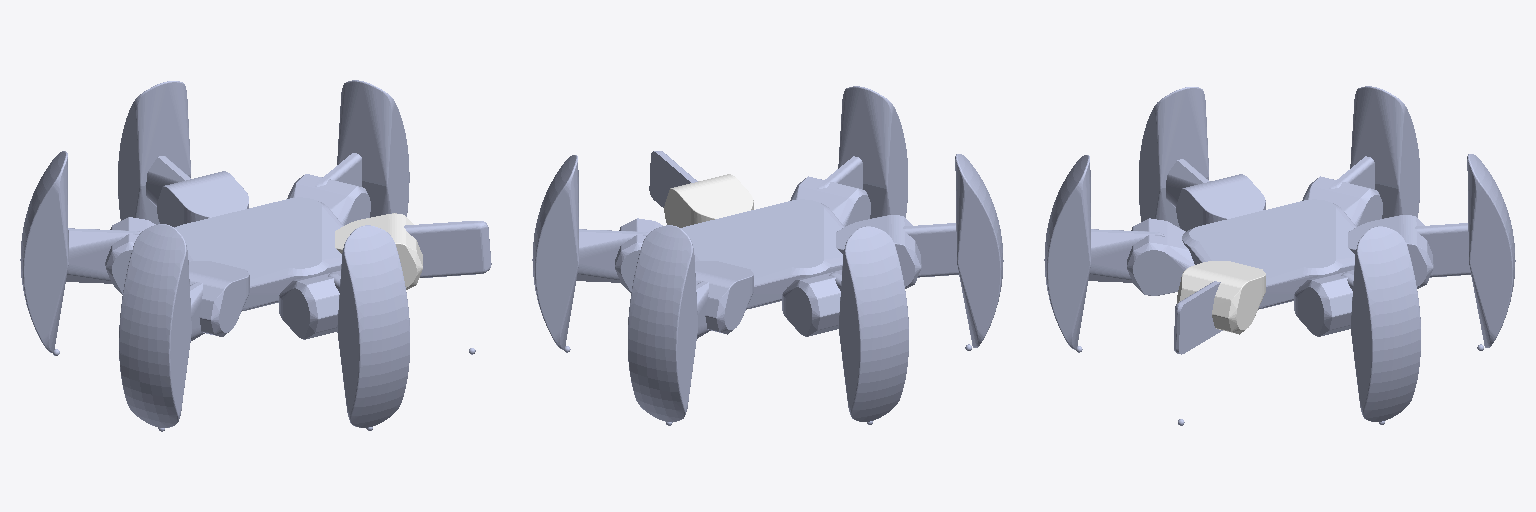
--- Render facts (derived) ---
3 views of the same robot in one strip: view 1: azimuth 30°, elevation 25°; view 2: azimuth 150°, elevation 25°; view 3: azimuth 270°, elevation 25° (orthographic).
Robot: Hex_centered — 25 links, 24 joints (18 revolute, 6 fixed); root link base_link; default pose: every joint at zero.
Links seen in each view (by area): view 1: leg3_sec2, leg4_sec2, base_link, leg0_sec2, leg2_sec2, leg1_sec2, leg5_sec1, leg1_sec0, leg3_sec0, leg4_sec0, leg2_sec1, leg0_sec0 (+5 smaller); view 2: leg1_sec2, leg2_sec2, base_link, leg4_sec2, leg0_sec2, leg3_sec2, leg5_sec0, leg1_sec0, leg2_sec0, leg0_sec1, leg3_sec1, leg4_sec0 (+5 smaller); view 3: leg0_sec2, base_link, leg2_sec2, leg4_sec2, leg1_sec2, leg3_sec2, leg5_sec0, leg4_sec0, leg3_sec0, leg0_sec0, leg4_sec1, leg5_sec1 (+5 smaller).
Link boxes in pixels (left/top/right/bottom): leg3_sec2: left=119, top=224, right=191, bottom=427; leg4_sec2: left=337, top=225, right=409, bottom=427; base_link: left=174, top=197, right=342, bottom=310; leg0_sec2: left=337, top=80, right=409, bottom=217; leg2_sec2: left=20, top=151, right=68, bottom=352; leg1_sec2: left=118, top=81, right=190, bottom=224; leg5_sec1: left=404, top=221, right=491, bottom=277; leg1_sec0: left=157, top=171, right=248, bottom=226; leg3_sec0: left=189, top=261, right=249, bottom=336; leg4_sec0: left=279, top=270, right=340, bottom=339; leg2_sec1: left=66, top=228, right=140, bottom=283; leg0_sec0: left=287, top=174, right=370, bottom=225; leg1_sec2: left=628, top=225, right=697, bottom=421; leg2_sec2: left=839, top=226, right=908, bottom=421; base_link: left=681, top=199, right=843, bottom=309; leg4_sec2: left=838, top=86, right=907, bottom=218; leg0_sec2: left=532, top=155, right=578, bottom=349; leg3_sec2: left=955, top=154, right=1003, bottom=347; leg5_sec0: left=664, top=174, right=753, bottom=227; leg1_sec0: left=695, top=261, right=753, bottom=334; leg2_sec0: left=782, top=269, right=841, bottom=336; leg0_sec1: left=576, top=229, right=648, bottom=282; leg3_sec1: left=903, top=223, right=958, bottom=277; leg4_sec0: left=790, top=176, right=870, bottom=226; leg0_sec2: left=1351, top=226, right=1420, bottom=421; base_link: left=1182, top=199, right=1355, bottom=309; leg2_sec2: left=1350, top=86, right=1419, bottom=218; leg4_sec2: left=1044, top=155, right=1090, bottom=349; leg1_sec2: left=1467, top=154, right=1515, bottom=347; leg3_sec2: left=1139, top=87, right=1208, bottom=228; leg5_sec0: left=1177, top=261, right=1265, bottom=334; leg4_sec0: left=1127, top=218, right=1194, bottom=295; leg3_sec0: left=1176, top=174, right=1265, bottom=231; leg0_sec0: left=1294, top=269, right=1353, bottom=336; leg4_sec1: left=1088, top=229, right=1165, bottom=282; leg5_sec1: left=1174, top=281, right=1222, bottom=354.
Bounding box of the posed robot: 0.6341 × 0.692 × 0.3162 m (x, y, z).
24 mesh visuals loaded from 25 distinct referenced files (24 OBJ); not drawn: 1 (reference not matched to a file when rendering).

URDF robot description (Hex_centered):
<?xml version='1.0' encoding='utf-8'?>
<robot name="Hex_centered">
  <link name="base_link">
    <inertial>
      <origin xyz="8.4655E-16 -2.7749E-05 -0.0017166" rpy="0 0 0" />
      <mass value="1.1131" />
      <inertia ixx="0.0015545" ixy="5.2756E-19" ixz="-5.9226E-22" iyy="0.0015449" iyz="2.5998E-19" izz="0.0029493" />
    </inertial>
    <visual>
      <origin xyz="0 0 0" rpy="0 0 0" />
      <geometry>
        <mesh filename="base_link_hull.obj" />
      </geometry>
      <material name="">
        <color rgba="0.79216 0.81961 0.93333 1" />
      </material>
    </visual>
    <collision>
      <origin xyz="0 0 0" rpy="0 0 0" />
      <geometry>
        <mesh filename="base_link_hull.obj" />
      </geometry>
    </collision>
  </link>
  <link name="leg0_sec0">
    <inertial>
      <origin xyz="-0.00707569385529468 0.00855062625804036 -0.054815748898491" rpy="0 0 0" />
      <mass value="0.516744336009406" />
      <inertia ixx="0.000332035445912826" ixy="-1.19422290500033E-08" ixz="-4.70411717105616E-06" iyy="0.000381762150648277" iyz="2.26631086123267E-05" izz="0.000277923623107278" />
    </inertial>
    <visual>
      <origin xyz="0 0 0" rpy="0 0 0" />
      <geometry>
        <mesh filename="leg0_sec0_hull.obj" />
      </geometry>
      <material name="">
        <color rgba="0.792156862745098 0.819607843137255 0.933333333333333 1" />
      </material>
    </visual>
    <collision>
      <origin xyz="0 0 0" rpy="0 0 0" />
      <geometry>
        <mesh filename="leg0_sec0_hull.obj" />
      </geometry>
    </collision>
  </link>
  <joint name="base_link_leg0_sec0" type="revolute">
    <origin xyz="0.0883345911860111 0.0510000000000006 -0.00299999999999999" rpy="-1.5707963267949 0 2.09951777344053" />
    <parent link="base_link" />
    <child link="leg0_sec0" />
    <axis xyz="0 1 0" />
    <limit lower="-1" upper="1" effort="10" velocity="10" />
  </joint>
  <link name="leg0_sec1">
    <inertial>
      <origin xyz="-3.47960722002806E-05 0.00296670012037184 -0.0658939676969916" rpy="0 0 0" />
      <mass value="0.0550811829575692" />
      <inertia ixx="2.28144165037125E-05" ixy="5.51953299782515E-10" ixz="4.60445429205642E-10" iyy="4.57864500280882E-05" iyz="-1.00902241603427E-08" izz="2.37510646239458E-05" />
    </inertial>
    <visual>
      <origin xyz="0 0 0" rpy="0 0 0" />
      <geometry>
        <mesh filename="leg0_sec1_hull.obj" />
      </geometry>
      <material name="">
        <color rgba="0.792156862745098 0.819607843137255 0.933333333333333 1" />
      </material>
    </visual>
    <collision>
      <origin xyz="0 0 0" rpy="0 0 0" />
      <geometry>
        <mesh filename="leg0_sec1_hull.obj" />
      </geometry>
    </collision>
  </link>
  <joint name="leg0_sec0_leg0_sec1" type="revolute">
    <origin xyz="0.014 -0.0025 -0.083" rpy="0 0.045641 1.5708" />
    <parent link="leg0_sec0" />
    <child link="leg0_sec1" />
    <axis xyz="-2.1688E-05 1 0.00047485" />
    <limit lower="-1" upper="1" effort="10" velocity="10" />
  </joint>
  <link name="leg0_sec2">
    <inertial>
      <origin xyz="0.00597993712436784 -0.019828072955937 0.00171878033778611" rpy="0 0 0" />
      <mass value="0.30128216441748" />
      <inertia ixx="0.0012875062335798" ixy="4.31058103013784E-07" ixz="0.000297696378153032" iyy="0.00126928197346853" iyz="3.09103455282562E-07" izz="0.000361201639787854" />
    </inertial>
    <visual>
      <origin xyz="0 0 0" rpy="0 0 0" />
      <geometry>
        <mesh filename="leg0_sec2_hull.obj" />
      </geometry>
      <material name="">
        <color rgba="0.792156862745098 0.819607843137255 0.933333333333333 1" />
      </material>
    </visual>
    <collision>
      <origin xyz="0 0 0" rpy="0 0 0" />
      <geometry>
        <mesh filename="leg0_sec2_hull.obj" />
      </geometry>
    </collision>
  </link>
  <joint name="leg0_sec1_leg0_sec2" type="revolute">
    <origin xyz="0 -0.0075 -0.118" rpy="0 -1.302 3.1416" />
    <parent link="leg0_sec1" />
    <child link="leg0_sec2" />
    <axis xyz="0.00046356 1 0.00010519" />
    <limit lower="-1" upper="1" effort="10" velocity="10" />
  </joint>
  <link name="leg0_end">
    <inertial>
      <origin xyz="-0.00438256224777916 -0.00839772550913839 0.000260732623376798" rpy="0 0 0" />
      <mass value="0.000523598775598299" />
      <inertia ixx="5.23598775598299E-09" ixy="-2.22951024477183E-25" ixz="-2.58493941422821E-26" iyy="5.23598775598298E-09" iyz="-5.16987882845642E-26" izz="5.23598775598299E-09" />
    </inertial>
    <visual>
      <origin xyz="0 0 0" rpy="0 0 0" />
      <geometry>
        <mesh filename="leg0_end_hull.obj" />
      </geometry>
      <material name="">
        <color rgba="0.792156862745098 0.819607843137255 0.933333333333333 1" />
      </material>
    </visual>
    <collision>
      <origin xyz="0 0 0" rpy="0 0 0" />
      <geometry>
        <mesh filename="leg0_end_hull.obj" />
      </geometry>
    </collision>
  </link>
  <joint name="leg0_sec2_leg0_end" type="fixed">
    <origin xyz="-0.030129 -0.021437 0.1463" rpy="-1.5398 0.11597 -2.657" />
    <parent link="leg0_sec2" />
    <child link="leg0_end" />
    <axis xyz="0 0 0" />
    <limit lower="-1" upper="1" effort="10" velocity="10" />
  </joint>
  <link name="leg1_sec0">
    <inertial>
      <origin xyz="-0.00710445304603185 0.00855022953898073 -0.0548148925372757" rpy="0 0 0" />
      <mass value="0.51674419533482" />
      <inertia ixx="0.000332030534681885" ixy="1.09687117943672E-08" ixz="-4.75157743858336E-06" iyy="0.000381752459194266" iyz="2.2678027424401E-05" izz="0.000277938234495214" />
    </inertial>
    <visual>
      <origin xyz="0 0 0" rpy="0 0 0" />
      <geometry>
        <mesh filename="leg1_sec0_hull.obj" />
      </geometry>
      <material name="">
        <color rgba="0.792156862745098 0.819607843137255 0.933333333333333 1" />
      </material>
    </visual>
    <collision>
      <origin xyz="0 0 0" rpy="0 0 0" />
      <geometry>
        <mesh filename="leg1_sec0_hull.obj" />
      </geometry>
    </collision>
  </link>
  <joint name="base_link_leg1_sec0" type="revolute">
    <origin xyz="0 0.102 0" rpy="1.5707963267949 0 0.00401317579419335" />
    <parent link="base_link" />
    <child link="leg1_sec0" />
    <axis xyz="0 1 0" />
    <limit lower="-1" upper="1" effort="10" velocity="10" />
  </joint>
  <link name="leg1_sec1">
    <inertial>
      <origin xyz="1.48463732280169E-09 0.00298679638148967 -0.0658997495889599" rpy="0 0 0" />
      <mass value="0.0550811690754703" />
      <inertia ixx="2.28145160395789E-05" ixy="9.43216308911731E-13" ixz="-1.27595524711446E-10" iyy="4.57865354622549E-05" iyz="1.45702317896288E-09" izz="2.37510484303137E-05" />
    </inertial>
    <visual>
      <origin xyz="0 0 0" rpy="0 0 0" />
      <geometry>
        <mesh filename="leg1_sec1_hull.obj" />
      </geometry>
      <material name="">
        <color rgba="0.792156862745098 0.819607843137255 0.933333333333333 1" />
      </material>
    </visual>
    <collision>
      <origin xyz="0 0 0" rpy="0 0 0" />
      <geometry>
        <mesh filename="leg1_sec1_hull.obj" />
      </geometry>
    </collision>
  </link>
  <joint name="leg1_sec0_leg1_sec1" type="revolute">
    <origin xyz="-0.0139999999999956 -0.00249999999999998 -0.0830000000000002" rpy="0 0.0750140295306033 -1.5707963267949" />
    <parent link="leg1_sec0" />
    <child link="leg1_sec1" />
    <axis xyz="0 1 0" />
    <limit lower="-1" upper="1" effort="10" velocity="10" />
  </joint>
  <link name="leg1_sec2">
    <inertial>
      <origin xyz="0.00447856820292183 0.0359301913587442 0.00431952813861851" rpy="0 0 0" />
      <mass value="0.301282245465355" />
      <inertia ixx="0.000839650699187153" ixy="-5.43340470613798E-07" ixz="0.000550363105349293" iyy="0.00126928650978786" iyz="-2.38816065708558E-07" izz="0.000809060253833485" />
    </inertial>
    <visual>
      <origin xyz="0 0 0" rpy="0 0 0" />
      <geometry>
        <mesh filename="leg1_sec2_hull.obj" />
      </geometry>
      <material name="">
        <color rgba="0.792156862745098 0.819607843137255 0.933333333333333 1" />
      </material>
    </visual>
    <collision>
      <origin xyz="0 0 0" rpy="0 0 0" />
      <geometry>
        <mesh filename="leg1_sec2_hull.obj" />
      </geometry>
    </collision>
  </link>
  <joint name="leg1_sec1_leg1_sec2" type="revolute">
    <origin xyz="0 -0.0240000000000046 -0.118" rpy="0 -0.791521153426387 0" />
    <parent link="leg1_sec1" />
    <child link="leg1_sec2" />
    <axis xyz="0 -1 0" />
    <limit lower="-1" upper="1" effort="10" velocity="10" />
  </joint>
  <link name="leg1_end">
    <inertial>
      <origin xyz="0 0 0" rpy="0 0 0" />
      <mass value="0.000523598775598299" />
      <inertia ixx="5.23598775598299E-09" ixy="1.03397576569128E-25" ixz="0" iyy="5.23598775598299E-09" iyz="-1.29246970711411E-25" izz="5.23598775598299E-09" />
    </inertial>
    <visual>
      <origin xyz="0 0 0" rpy="0 0 0" />
      <geometry>
        <mesh filename="leg1_end_hull.obj" />
      </geometry>
      <material name="">
        <color rgba="0.792156862745098 0.819607843137255 0.933333333333333 1" />
      </material>
    </visual>
    <collision>
      <origin xyz="0 0 0" rpy="0 0 0" />
      <geometry>
        <mesh filename="leg1_end_hull.obj" />
      </geometry>
    </collision>
  </link>
  <joint name="leg1_sec2_leg1_end" type="fixed">
    <origin xyz="0.124761507761288 0.036148286668602 -0.0984937610507115" rpy="0.969665570451577 0.803297229042856 2.41148618199875" />
    <parent link="leg1_sec2" />
    <child link="leg1_end" />
    <axis xyz="0 0 0" />
  </joint>
  <link name="leg2_sec0">
    <inertial>
      <origin xyz="-0.00710445055153557 -0.0206811805150298 -0.054812028813218" rpy="0 0 0" />
      <mass value="0.516744340904771" />
      <inertia ixx="0.000332030498302113" ixy="-5.73639305002406E-11" ixz="-4.73249435846793E-06" iyy="0.000381762164339501" iyz="2.26631091945157E-05" izz="0.000277928582872897" />
    </inertial>
    <visual>
      <origin xyz="0 0 0" rpy="0 0 0" />
      <geometry>
        <mesh filename="leg2_sec0_hull.obj" />
      </geometry>
      <material name="">
        <color rgba="0.792156862745098 0.819607843137255 0.933333333333333 1" />
      </material>
    </visual>
    <collision>
      <origin xyz="0 0 0" rpy="0 0 0" />
      <geometry>
        <mesh filename="leg2_sec0_hull.obj" />
      </geometry>
    </collision>
  </link>
  <joint name="base_link_leg2_sec0" type="revolute">
    <origin xyz="-0.0883345911860131 0.0510000000000005 -0.0322318069086422" rpy="-1.5707963267949 0 -2.0887478298947" />
    <parent link="base_link" />
    <child link="leg2_sec0" />
    <axis xyz="0 1 0" />
    <limit lower="-1" upper="1" effort="10" velocity="10" />
  </joint>
  <link name="leg2_sec1">
    <inertial>
      <origin xyz="5.25503776604985E-09 -0.0109552250162961 -0.0658997561016724" rpy="0 0 0" />
      <mass value="0.0550811835691165" />
      <inertia ixx="2.28144162219905E-05" ixy="6.87387369928867E-13" ixz="-2.99949390540895E-11" iyy="4.57864548150819E-05" iyz="1.45667549934326E-09" izz="2.37510606270452E-05" />
    </inertial>
    <visual>
      <origin xyz="0 0 0" rpy="0 0 0" />
      <geometry>
        <mesh filename="leg2_sec1_hull.obj" />
      </geometry>
      <material name="">
        <color rgba="0.792156862745098 0.819607843137255 0.933333333333333 1" />
      </material>
    </visual>
    <collision>
      <origin xyz="0 0 0" rpy="0 0 0" />
      <geometry>
        <mesh filename="leg2_sec1_hull.obj" />
      </geometry>
    </collision>
  </link>
  <joint name="leg2_sec0_leg2_sec1" type="revolute">
    <origin xyz="0 -0.0317318069086421 -0.0829999999999991" rpy="0 0.0461645170086927 1.5707963267949" />
    <parent link="leg2_sec0" />
    <child link="leg2_sec1" />
    <axis xyz="0 0.999999998787039 4.920117719176E-05" />
    <limit lower="-1" upper="1" effort="10" velocity="10" />
  </joint>
  <link name="leg2_sec2">
    <inertial>
      <origin xyz="0.00506647207805064 -0.00361212267776093 0.00156975734931639" rpy="0 0 0" />
      <mass value="0.301282383105138" />
      <inertia ixx="0.00100817381744662" ixy="-0.000518985545059815" ixz="3.35388953606806E-07" iyy="0.000640542280867976" iyz="-4.89721520029434E-07" izz="0.00126929100056078" />
    </inertial>
    <visual>
      <origin xyz="0 0 0" rpy="0 0 0" />
      <geometry>
        <mesh filename="leg2_sec2_hull.obj" />
      </geometry>
      <material name="">
        <color rgba="0.792156862745098 0.819607843137255 0.933333333333333 1" />
      </material>
    </visual>
    <collision>
      <origin xyz="0 0 0" rpy="0 0 0" />
      <geometry>
        <mesh filename="leg2_sec2_hull.obj" />
      </geometry>
    </collision>
  </link>
  <joint name="leg2_sec1_leg2_sec2" type="revolute">
    <origin xyz="0 0 -0.118" rpy="-1.57079632679491 -0.971924974977197 -3.14159265358978" />
    <parent link="leg2_sec1" />
    <child link="leg2_sec2" />
    <axis xyz="-4.19200750312876E-05 2.58576780800823E-05 0.999999998787044" />
    <limit lower="-1" upper="1" effort="10" velocity="10" />
  </joint>
  <link name="leg2_end">
    <inertial>
      <origin xyz="0 0 0" rpy="0 0 0" />
      <mass value="0.000523598775598299" />
      <inertia ixx="5.23598775598299E-09" ixy="-9.04728794979874E-26" ixz="-2.06795153138257E-25" iyy="5.23598775598298E-09" iyz="1.03397576569128E-25" izz="5.23598775598299E-09" />
    </inertial>
    <visual>
      <origin xyz="0 0 0" rpy="0 0 0" />
      <geometry>
        <mesh filename="leg2_end_hull.obj" />
      </geometry>
      <material name="">
        <color rgba="0.792156862745098 0.819607843137255 0.933333333333333 1" />
      </material>
    </visual>
    <collision>
      <origin xyz="0 0 0" rpy="0 0 0" />
      <geometry>
        <mesh filename="leg2_end_hull.obj" />
      </geometry>
    </collision>
  </link>
  <joint name="leg2_sec2_leg2_end" type="fixed">
    <origin xyz="-0.0759237273830959 -0.138069815645729 0.00153632213479866" rpy="3.11289588948014 0.483102881287211 2.68217676816751" />
    <parent link="leg2_sec2" />
    <child link="leg2_end" />
    <axis xyz="0 0 0" />
  </joint>
  <link name="leg3_sec0">
    <inertial>
      <origin xyz="-0.00710445049796826 0.0085502314605868 -0.0548148830973804" rpy="0 0 0" />
      <mass value="0.51674434334138" />
      <inertia ixx="0.000332030497320948" ixy="1.09508607538054E-08" ixz="-4.75156132613358E-06" iyy="0.000381752452117392" iyz="2.2678016415106E-05" izz="0.000277938295233445" />
    </inertial>
    <visual>
      <origin xyz="0 0 0" rpy="0 0 0" />
      <geometry>
        <mesh filename="leg3_sec0_hull.obj" />
      </geometry>
      <material name="">
        <color rgba="0.792156862745098 0.819607843137255 0.933333333333333 1" />
      </material>
    </visual>
    <collision>
      <origin xyz="0 0 0" rpy="0 0 0" />
      <geometry>
        <mesh filename="leg3_sec0_hull.obj" />
      </geometry>
    </collision>
  </link>
  <joint name="base_link_leg3_sec0" type="revolute">
    <origin xyz="-0.0883345911860119 -0.0510000000000026 0" rpy="1.5707963267949 0 2.09840827818739" />
    <parent link="base_link" />
    <child link="leg3_sec0" />
    <axis xyz="0 1 0" />
    <limit lower="-1" upper="1" effort="10" velocity="10" />
  </joint>
  <link name="leg3_sec1">
    <inertial>
      <origin xyz="-1.86242390606828E-09 0.00298683029554875 -0.0658997383493555" rpy="0 0 0" />
      <mass value="0.05508118510774" />
      <inertia ixx="2.28144167847957E-05" ixy="1.15459821771112E-12" ixz="-2.95649396417999E-11" iyy="4.57864559080722E-05" iyz="1.45756403955783E-09" izz="2.37510611896855E-05" />
    </inertial>
    <visual>
      <origin xyz="0 0 0" rpy="0 0 0" />
      <geometry>
        <mesh filename="leg3_sec1_hull.obj" />
      </geometry>
      <material name="">
        <color rgba="0.792156862745098 0.819607843137255 0.933333333333333 1" />
      </material>
    </visual>
    <collision>
      <origin xyz="0 0 0" rpy="0 0 0" />
      <geometry>
        <mesh filename="leg3_sec1_hull.obj" />
      </geometry>
    </collision>
  </link>
  <joint name="leg3_sec0_leg3_sec1" type="revolute">
    <origin xyz="-0.014 -0.00249999999999027 -0.082999999999997" rpy="0 0.0750140293482233 -1.5707963267949" />
    <parent link="leg3_sec0" />
    <child link="leg3_sec1" />
    <axis xyz="0 1 0" />
    <limit lower="-1" upper="1" effort="10" velocity="10" />
  </joint>
  <link name="leg3_sec2">
    <inertial>
      <origin xyz="0.00447860530466054 0.0359301784982642 0.00431942794813184" rpy="0 0 0" />
      <mass value="0.301282032345394" />
      <inertia ixx="0.00083964691740419" ixy="-5.43655253747486E-07" ixz="0.000550362229373171" iyy="0.00126928091669943" iyz="-2.3820985063926E-07" izz="0.000809058576296916" />
    </inertial>
    <visual>
      <origin xyz="0 0 0" rpy="0 0 0" />
      <geometry>
        <mesh filename="leg3_sec2_hull.obj" />
      </geometry>
      <material name="">
        <color rgba="0.792156862745098 0.819607843137255 0.933333333333333 1" />
      </material>
    </visual>
    <collision>
      <origin xyz="0 0 0" rpy="0 0 0" />
      <geometry>
        <mesh filename="leg3_sec2_hull.obj" />
      </geometry>
    </collision>
  </link>
  <joint name="leg3_sec1_leg3_sec2" type="revolute">
    <origin xyz="0 -0.0240000000000002 -0.118000000000003" rpy="0 -0.79152115324401 0" />
    <parent link="leg3_sec1" />
    <child link="leg3_sec2" />
    <axis xyz="0 -1 0" />
    <limit lower="-1" upper="1" effort="10" velocity="10" />
  </joint>
  <link name="leg3_end">
    <inertial>
      <origin xyz="0 0 0" rpy="0 0 0" />
      <mass value="0.000523598775598299" />
      <inertia ixx="5.23598775598299E-09" ixy="-2.26182198744969E-26" ixz="-3.87740912134232E-26" iyy="5.23598775598299E-09" iyz="-5.16987882845642E-26" izz="5.23598775598299E-09" />
    </inertial>
    <visual>
      <origin xyz="0 0 0" rpy="0 0 0" />
      <geometry>
        <mesh filename="leg3_end_hull.obj" />
      </geometry>
      <material name="">
        <color rgba="0.792156862745098 0.819607843137255 0.933333333333333 1" />
      </material>
    </visual>
    <collision>
      <origin xyz="0 0 0" rpy="0 0 0" />
      <geometry>
        <mesh filename="leg3_end_hull.obj" />
      </geometry>
    </collision>
  </link>
  <joint name="leg3_sec2_leg3_end" type="fixed">
    <origin xyz="0.124761507746165 0.0361482866686022 -0.0984937610354024" rpy="0.969665570451575 0.803297229042854 2.41148618199875" />
    <parent link="leg3_sec2" />
    <child link="leg3_end" />
    <axis xyz="0 0 0" />
  </joint>
  <link name="leg4_sec0">
    <inertial>
      <origin xyz="-0.00710445303505077 0.00855062450257226 -0.0548120381256653" rpy="0 0 0" />
      <mass value="0.51674419539948" />
      <inertia ixx="0.000332030534503116" ixy="-3.96325880872006E-11" ixz="-4.7325102588364E-06" iyy="0.000381762170173281" iyz="2.26631200821973E-05" izz="0.000277928522694961" />
    </inertial>
    <visual>
      <origin xyz="0 0 0" rpy="0 0 0" />
      <geometry>
        <mesh filename="leg4_sec0_hull.obj" />
      </geometry>
      <material name="">
        <color rgba="0.792156862745098 0.819607843137255 0.933333333333333 1" />
      </material>
    </visual>
    <collision>
      <origin xyz="0 0 0" rpy="0 0 0" />
      <geometry>
        <mesh filename="leg4_sec0_hull.obj" />
      </geometry>
    </collision>
  </link>
  <joint name="base_link_leg4_sec0" type="revolute">
    <origin xyz="0 -0.102 -0.003" rpy="-1.5708 0 0.0056473" />
    <parent link="base_link" />
    <child link="leg4_sec0" />
    <axis xyz="0 1 0" />
    <limit lower="-1" upper="1" effort="10" velocity="10" />
  </joint>
  <link name="leg4_sec1">
    <inertial>
      <origin xyz="1.55185030797922E-09 0.00304474105440002 -0.0658997504155771" rpy="0 0 0" />
      <mass value="0.0550811667402721" />
      <inertia ixx="2.28145150533023E-05" ixy="9.40225941500973E-13" ixz="-1.27680898175252E-10" iyy="4.5786533657584E-05" iyz="1.45699133116291E-09" izz="2.37510475440189E-05" />
    </inertial>
    <visual>
      <origin xyz="0 0 0" rpy="0 0 0" />
      <geometry>
        <mesh filename="leg4_sec1_hull.obj" />
      </geometry>
      <material name="">
        <color rgba="0.792156862745098 0.819607843137255 0.933333333333333 1" />
      </material>
    </visual>
    <collision>
      <origin xyz="0 0 0" rpy="0 0 0" />
      <geometry>
        <mesh filename="leg4_sec1_hull.obj" />
      </geometry>
    </collision>
  </link>
  <joint name="leg4_sec0_leg4_sec1" type="revolute">
    <origin xyz="0.0139999999997467 -0.00249999999902129 -0.0830000000016922" rpy="0 0.0461645169152207 1.5707963267949" />
    <parent link="leg4_sec0" />
    <child link="leg4_sec1" />
    <axis xyz="0 0.999999998787038 4.92011950652474E-05" />
    <limit lower="-1" upper="1" effort="10" velocity="10" />
  </joint>
  <link name="leg4_sec2">
    <inertial>
      <origin xyz="0.00596287497487452 -0.0199302535089278 0.001777992879926" rpy="0 0 0" />
      <mass value="0.301282726812204" />
      <inertia ixx="0.00128751403890389" ixy="4.76738917873338E-07" ixz="0.000297700131008368" iyy="0.00126929778505946" iyz="3.53794352511474E-07" izz="0.00036120939589547" />
    </inertial>
    <visual>
      <origin xyz="0 0 0" rpy="0 0 0" />
      <geometry>
        <mesh filename="leg4_sec2_hull.obj" />
      </geometry>
      <material name="">
        <color rgba="0.792156862745098 0.819607843137255 0.933333333333333 1" />
      </material>
    </visual>
    <collision>
      <origin xyz="0 0 0" rpy="0 0 0" />
      <geometry>
        <mesh filename="leg4_sec2_hull.obj" />
      </geometry>
    </collision>
  </link>
  <joint name="leg4_sec1_leg4_sec2" type="revolute">
    <origin xyz="0 -0.00749999999938609 -0.118000000015958" rpy="0 -1.30148876312317 -3.14159265358977" />
    <parent link="leg4_sec1" />
    <child link="leg4_sec2" />
    <axis xyz="-4.80324338419475E-05 0.999999998787043 -1.08995076120095E-05" />
    <limit lower="-1" upper="1" effort="10" velocity="10" />
  </joint>
  <link name="leg4_end">
    <inertial>
      <origin xyz="5.55111512312578E-17 0 -2.77555756156289E-17" rpy="0 0 0" />
      <mass value="0.000523598775598299" />
      <inertia ixx="5.23598775598298E-09" ixy="-5.16987882845642E-26" ixz="4.13590306276514E-25" iyy="5.23598775598298E-09" iyz="5.16987882845642E-26" izz="5.23598775598298E-09" />
    </inertial>
    <visual>
      <origin xyz="0 0 0" rpy="0 0 0" />
      <geometry>
        <mesh filename="leg4_end_hull.obj" />
      </geometry>
      <material name="">
        <color rgba="0.792156862745098 0.819607843137255 0.933333333333333 1" />
      </material>
    </visual>
    <collision>
      <origin xyz="0 0 0" rpy="0 0 0" />
      <geometry>
        <mesh filename="leg4_end_hull.obj" />
      </geometry>
    </collision>
  </link>
  <joint name="leg4_sec1_leg4_end" type="fixed">
    <origin xyz="-0.0271542070757799 -0.019963677867964 0.155210616284265" rpy="-1.53890591238882 0.114921448047227 -2.65500348954818" />
    <parent link="leg4_sec2" />
    <child link="leg4_end" />
    <axis xyz="0 0 0" />
  </joint>
  <link name="leg5_sec0">
    <inertial>
      <origin xyz="0 0 0" rpy="0 0 0" />
      <mass value="0" />
      <inertia ixx="0" ixy="0" ixz="0" iyy="0" iyz="0" izz="0" />
    </inertial>
    <visual>
      <origin xyz="0 0 0" rpy="0 0 0" />
      <geometry>
        <mesh filename="leg5_sec0_hull.obj" />
      </geometry>
      <material name="">
        <color rgba="1 1 1 1" />
      </material>
    </visual>
    <collision>
      <origin xyz="0 0 0" rpy="0 0 0" />
      <geometry>
        <mesh filename="leg5_sec0_hull.obj" />
      </geometry>
    </collision>
  </link>
  <joint name="base_link_leg5_sec0" type="revolute">
    <origin xyz="0.0883345911860154 -0.0509999999999997 0" rpy="1.5707963267949 0 -2.09038192659899" />
    <parent link="base_link" />
    <child link="leg5_sec0" />
    <axis xyz="0 1 0" />
    <limit lower="-1" upper="1" effort="10" velocity="10" />
  </joint>
  <link name="leg5_sec1">
    <inertial>
      <origin xyz="5.71011421132694E-09 0.00533038998828729 -0.05907045947276" rpy="0 0 0" />
      <mass value="0.0486978737702698" />
      <inertia ixx="2.23874617536782E-05" ixy="6.82131812553126E-13" ixz="-2.93052584054011E-11" iyy="4.50321877207089E-05" iyz="1.45670538125702E-09" izz="2.33241066637153E-05" />
    </inertial>
    <visual>
      <origin xyz="0 0 0" rpy="0 0 0" />
      <geometry>
        <mesh filename="leg5_sec1_hull.obj" />
      </geometry>
      <material name="">
        <color rgba="0.792156862745098 0.819607843137255 0.933333333333333 1" />
      </material>
    </visual>
    <collision>
      <origin xyz="0 0 0" rpy="0 0 0" />
      <geometry>
        <mesh filename="leg5_sec1_hull.obj" />
      </geometry>
    </collision>
  </link>
  <joint name="leg5_sec0_leg5_sec1" type="revolute">
    <origin xyz="-0.0139999999999999 -0.00249999999999021 -0.0829999999999969" rpy="0 0.0750140293482231 -1.5707963267949" />
    <parent link="leg5_sec0" />
    <child link="leg5_sec1" />
    <axis xyz="0 1 0" />
    <limit lower="-1" upper="1" effort="10" velocity="10" />
  </joint>
  <link name="leg5_sec2">
    <inertial>
      <origin xyz="0.00447855748927306 0.0359302309473375 0.00431961611906123" rpy="0 0 0" />
      <mass value="0.301282258314777" />
      <inertia ixx="0.000839653296899393" ixy="-5.43039219271966E-07" ixz="0.000550363438528571" iyy="0.00126928985211286" iyz="-2.39708770127247E-07" izz="0.000809061532346639" />
    </inertial>
    <visual>
      <origin xyz="0 0 0" rpy="0 0 0" />
      <geometry>
        <mesh filename="leg5_sec2_hull.obj" />
      </geometry>
      <material name="">
        <color rgba="0.792156862745098 0.819607843137255 0.933333333333333 1" />
      </material>
    </visual>
    <collision>
      <origin xyz="0 0 0" rpy="0 0 0" />
      <geometry>
        <mesh filename="leg5_sec2_hull.obj" />
      </geometry>
    </collision>
  </link>
  <joint name="leg5_sec1_leg5_sec2" type="revolute">
    <origin xyz="0 -0.0240000000000002 -0.118000000000002" rpy="0 -0.791521153244008 0" />
    <parent link="leg5_sec1" />
    <child link="leg5_sec2" />
    <axis xyz="0 -1 0" />
    <limit lower="-1" upper="1" effort="10" velocity="10" />
  </joint>
  <link name="leg5_end">
    <inertial>
      <origin xyz="0 0 2.77555756156289E-17" rpy="0 0 0" />
      <mass value="0.000523598775598299" />
      <inertia ixx="5.23598775598299E-09" ixy="-3.87740912134232E-26" ixz="-4.13590306276514E-25" iyy="5.23598775598299E-09" iyz="1.93870456067116E-26" izz="5.23598775598299E-09" />
    </inertial>
    <visual>
      <origin xyz="0 0 0" rpy="0 0 0" />
      <geometry>
        <mesh filename="leg5_end_hull.obj" />
      </geometry>
      <material name="">
        <color rgba="0.792156862745098 0.819607843137255 0.933333333333333 1" />
      </material>
    </visual>
    <collision>
      <origin xyz="0 0 0" rpy="0 0 0" />
      <geometry>
        <mesh filename="leg5_end_hull.obj" />
      </geometry>
    </collision>
  </link>
  <joint name="leg5_sec2_leg4_end" type="fixed">
    <origin xyz="0.124761507746165 0.036148286668602 -0.0984937610354022" rpy="0.969665570451577 0.803297229042861 2.41148618199875" />
    <parent link="leg5_sec2" />
    <child link="leg5_end" />
    <axis xyz="0 0 0" />
  </joint>
    <transmission name="simple_trans00">
    <type>transmission_interface/SimpleTransmission</type>
    <joint name="base_link_leg0_sec0">
        <hardwareInterface>EffortJointInterface</hardwareInterface>
    </joint>
    <actuator name="foo_motor00">
        <mechanicalReduction>1</mechanicalReduction>
        <hardwareInterface>EffortJointInterface</hardwareInterface>
    </actuator>
    </transmission>

    <transmission name="simple_trans01">
    <type>transmission_interface/SimpleTransmission</type>
    <joint name="leg0_sec0_leg0_sec1">
        <hardwareInterface>EffortJointInterface</hardwareInterface>
    </joint>
    <actuator name="foo_motor01">
        <mechanicalReduction>1</mechanicalReduction>
        <hardwareInterface>EffortJointInterface</hardwareInterface>
    </actuator>
    </transmission>

    <transmission name="simple_trans02">
    <type>transmission_interface/SimpleTransmission</type>
    <joint name="leg0_sec1_leg0_sec2">
        <hardwareInterface>EffortJointInterface</hardwareInterface>
    </joint>
    <actuator name="foo_motor02">
        <mechanicalReduction>1</mechanicalReduction>
        <hardwareInterface>EffortJointInterface</hardwareInterface>
    </actuator>
    </transmission>

    <transmission name="simple_trans10">
    <type>transmission_interface/SimpleTransmission</type>
    <joint name="base_link_leg1_sec0">
        <hardwareInterface>EffortJointInterface</hardwareInterface>
    </joint>
    <actuator name="foo_motor10">
        <mechanicalReduction>1</mechanicalReduction>
        <hardwareInterface>EffortJointInterface</hardwareInterface>
    </actuator>
    </transmission>

    <transmission name="simple_trans11">
    <type>transmission_interface/SimpleTransmission</type>
    <joint name="leg1_sec0_leg1_sec1">
        <hardwareInterface>EffortJointInterface</hardwareInterface>
    </joint>
    <actuator name="foo_motor11">
        <mechanicalReduction>1</mechanicalReduction>
        <hardwareInterface>EffortJointInterface</hardwareInterface>
    </actuator>
    </transmission>

    <transmission name="simple_trans12">
    <type>transmission_interface/SimpleTransmission</type>
    <joint name="leg1_sec1_leg1_sec2">
        <hardwareInterface>EffortJointInterface</hardwareInterface>
    </joint>
    <actuator name="foo_motor12">
        <mechanicalReduction>1</mechanicalReduction>
        <hardwareInterface>EffortJointInterface</hardwareInterface>
    </actuator>
    </transmission>

    <transmission name="simple_trans20">
    <type>transmission_interface/SimpleTransmission</type>
    <joint name="base_link_leg2_sec0">
        <hardwareInterface>EffortJointInterface</hardwareInterface>
    </joint>
    <actuator name="foo_motor20">
        <mechanicalReduction>1</mechanicalReduction>
        <hardwareInterface>EffortJointInterface</hardwareInterface>
    </actuator>
    </transmission>

    <transmission name="simple_trans21">
    <type>transmission_interface/SimpleTransmission</type>
    <joint name="leg2_sec0_leg2_sec1">
        <hardwareInterface>EffortJointInterface</hardwareInterface>
    </joint>
    <actuator name="foo_motor21">
        <mechanicalReduction>1</mechanicalReduction>
        <hardwareInterface>EffortJointInterface</hardwareInterface>
    </actuator>
    </transmission>

    <transmission name="simple_trans22">
    <type>transmission_interface/SimpleTransmission</type>
    <joint name="leg2_sec1_leg2_sec2">
        <hardwareInterface>EffortJointInterface</hardwareInterface>
    </joint>
    <actuator name="foo_motor22">
        <mechanicalReduction>1</mechanicalReduction>
        <hardwareInterface>EffortJointInterface</hardwareInterface>
    </actuator>
    </transmission>

    <transmission name="simple_trans30">
    <type>transmission_interface/SimpleTransmission</type>
    <joint name="base_link_leg3_sec0">
        <hardwareInterface>EffortJointInterface</hardwareInterface>
    </joint>
    <actuator name="foo_motor30">
        <mechanicalReduction>1</mechanicalReduction>
        <hardwareInterface>EffortJointInterface</hardwareInterface>
    </actuator>
    </transmission>

    <transmission name="simple_trans31">
    <type>transmission_interface/SimpleTransmission</type>
    <joint name="leg3_sec0_leg3_sec1">
        <hardwareInterface>EffortJointInterface</hardwareInterface>
    </joint>
    <actuator name="foo_motor31">
        <mechanicalReduction>1</mechanicalReduction>
        <hardwareInterface>EffortJointInterface</hardwareInterface>
    </actuator>
    </transmission>

    <transmission name="simple_trans32">
    <type>transmission_interface/SimpleTransmission</type>
    <joint name="leg3_sec1_leg3_sec2">
        <hardwareInterface>EffortJointInterface</hardwareInterface>
    </joint>
    <actuator name="foo_motor32">
        <mechanicalReduction>1</mechanicalReduction>
        <hardwareInterface>EffortJointInterface</hardwareInterface>
    </actuator>
    </transmission>

    <transmission name="simple_trans40">
    <type>transmission_interface/SimpleTransmission</type>
    <joint name="base_link_leg4_sec0">
        <hardwareInterface>EffortJointInterface</hardwareInterface>
    </joint>
    <actuator name="foo_motor40">
        <mechanicalReduction>1</mechanicalReduction>
        <hardwareInterface>EffortJointInterface</hardwareInterface>
    </actuator>
    </transmission>

    <transmission name="simple_trans41">
    <type>transmission_interface/SimpleTransmission</type>
    <joint name="leg4_sec0_leg4_sec1">
        <hardwareInterface>EffortJointInterface</hardwareInterface>
    </joint>
    <actuator name="foo_motor41">
        <mechanicalReduction>1</mechanicalReduction>
        <hardwareInterface>EffortJointInterface</hardwareInterface>
    </actuator>
    </transmission>

    <transmission name="simple_trans42">
    <type>transmission_interface/SimpleTransmission</type>
    <joint name="leg4_sec1_leg4_sec2">
        <hardwareInterface>EffortJointInterface</hardwareInterface>
    </joint>
    <actuator name="foo_motor42">
        <mechanicalReduction>1</mechanicalReduction>
        <hardwareInterface>EffortJointInterface</hardwareInterface>
    </actuator>
    </transmission>

    <transmission name="simple_trans50">
    <type>transmission_interface/SimpleTransmission</type>
    <joint name="base_link_leg5_sec0">
        <hardwareInterface>EffortJointInterface</hardwareInterface>
    </joint>
    <actuator name="foo_motor50">
        <mechanicalReduction>1</mechanicalReduction>
        <hardwareInterface>EffortJointInterface</hardwareInterface>
    </actuator>
    </transmission>

    <transmission name="simple_trans51">
    <type>transmission_interface/SimpleTransmission</type>
    <joint name="leg5_sec0_leg5_sec1">
        <hardwareInterface>EffortJointInterface</hardwareInterface>
    </joint>
    <actuator name="foo_motor51">
        <mechanicalReduction>1</mechanicalReduction>
        <hardwareInterface>EffortJointInterface</hardwareInterface>
    </actuator>
    </transmission>

    <transmission name="simple_trans52">
    <type>transmission_interface/SimpleTransmission</type>
    <joint name="leg5_sec1_leg5_sec2">
        <hardwareInterface>EffortJointInterface</hardwareInterface>
    </joint>
    <actuator name="foo_motor52">
        <mechanicalReduction>1</mechanicalReduction>
        <hardwareInterface>EffortJointInterface</hardwareInterface>
    </actuator>
    </transmission>
</robot>
